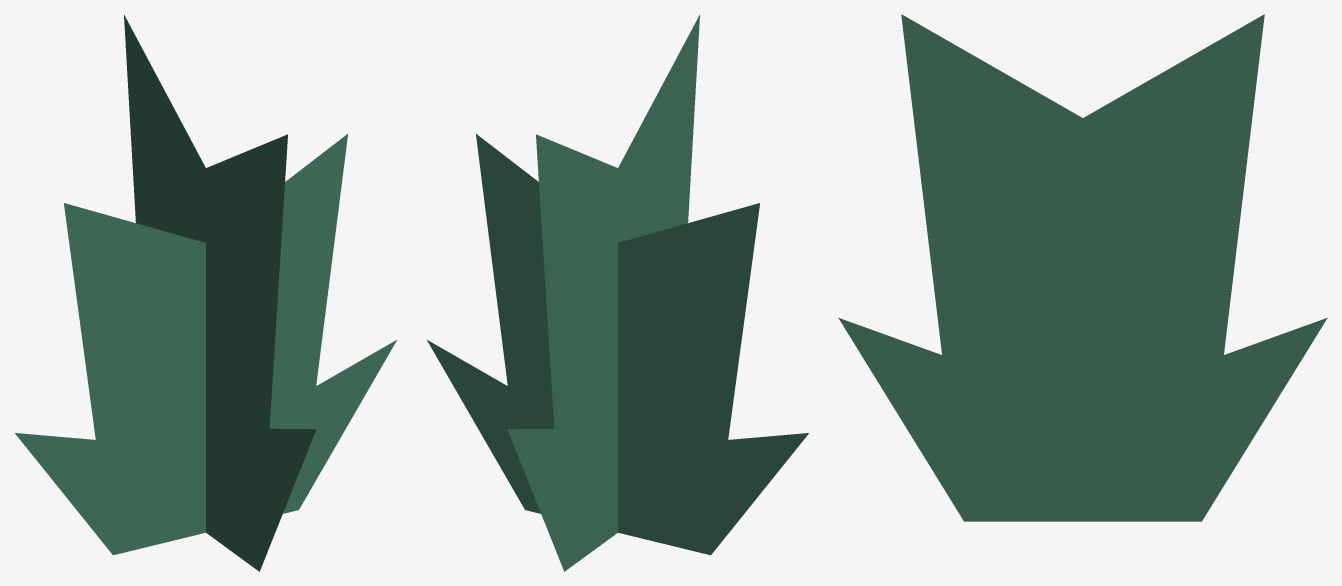
The model's file is Plant_1_01.fbx.
3 renders of one model, left to right at view 1: azimuth 30°, elevation 25°; view 2: azimuth 150°, elevation 25°; view 3: azimuth 270°, elevation 25°, orthographic. The views are drawn at different scales.
Visible parts, largest first — view 1: Mesh1_Plant_1 Model, Mesh2_Plant_1 Model; view 2: Mesh1_Plant_1 Model, Mesh2_Plant_1 Model; view 3: Mesh2_Plant_1 Model.
Boxes of the visible parts, x1=… form: Mesh1_Plant_1 Model: x1=15, y1=134, x2=396, y2=555; Mesh2_Plant_1 Model: x1=124, y1=15, x2=316, y2=571; Mesh1_Plant_1 Model: x1=427, y1=134, x2=808, y2=555; Mesh2_Plant_1 Model: x1=507, y1=15, x2=699, y2=571; Mesh2_Plant_1 Model: x1=838, y1=14, x2=1327, y2=521.
Bounding box in the file's own units: 0.5692 × 0.6512 × 0.5692.
